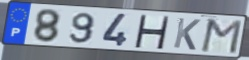4: (100, 12, 131, 48)
8: (31, 8, 63, 45)
9: (70, 11, 97, 45)
H: (133, 13, 172, 51)
K: (171, 17, 202, 52)
M: (198, 18, 244, 56)
